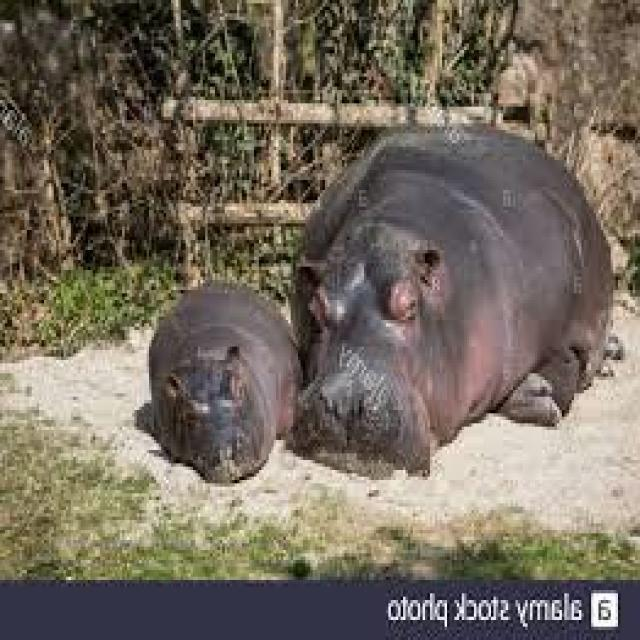hippopotamus: (293, 127, 613, 470), (151, 283, 300, 480)
